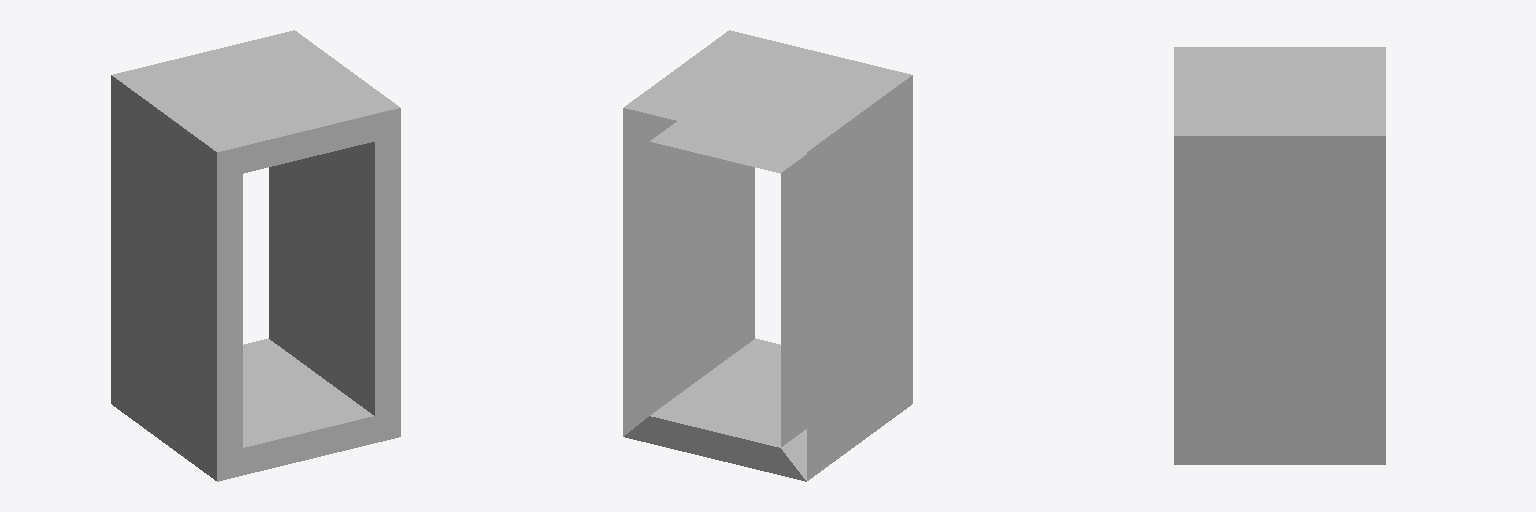
The model's file is tunnel.obj.
3 views of the same model, side by side, from view 1: azimuth 30°, elevation 25°; view 2: azimuth 150°, elevation 25°; view 3: azimuth 270°, elevation 25° (orthographic).
Visible parts, largest first — view 1: tunnel; view 2: tunnel; view 3: tunnel.
Boxes of the visible parts, x1,y1,x2,y2 form: tunnel: [111, 30, 400, 481]; tunnel: [623, 30, 912, 481]; tunnel: [1174, 47, 1385, 464].
Size of the model in its own units: 2.8 by 4.8 by 2.8.